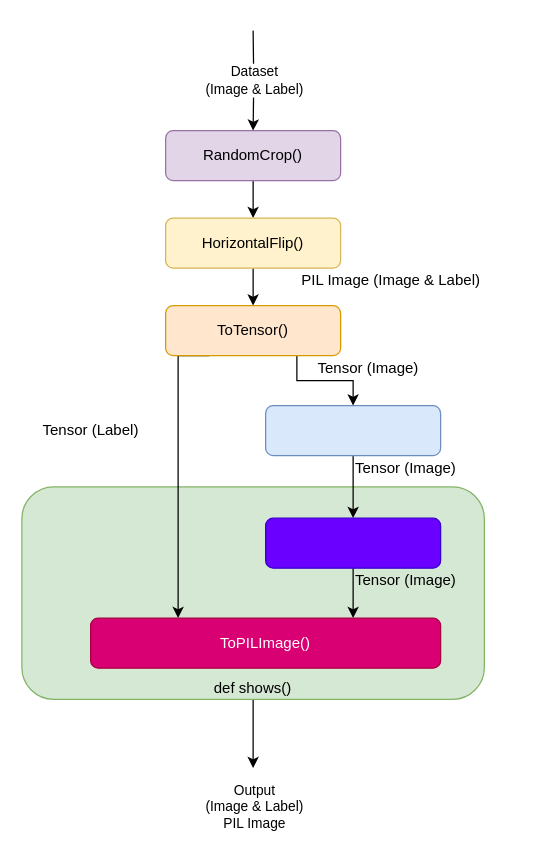
Image size: 538x853. Some labels were removed from this diagram. Each missing label, with the centre of its shape:
ImageDenormalize(): the point at 352,542
ImageNormalized(): the point at 352,430
